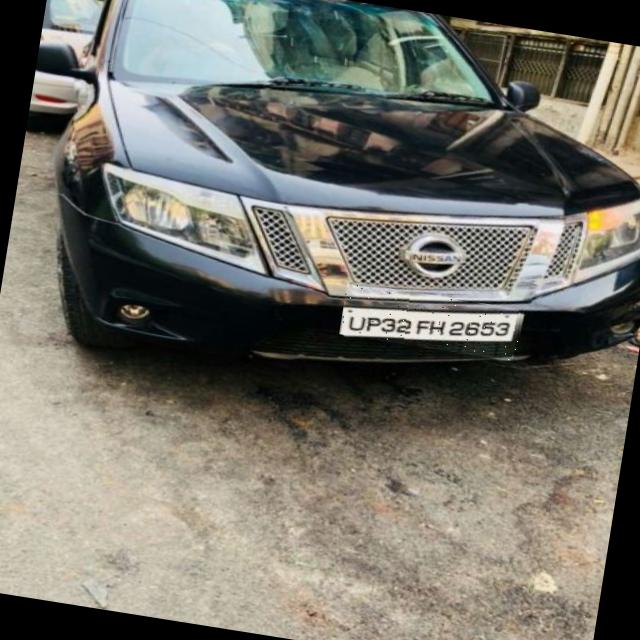Plate: (341, 283, 525, 363)
